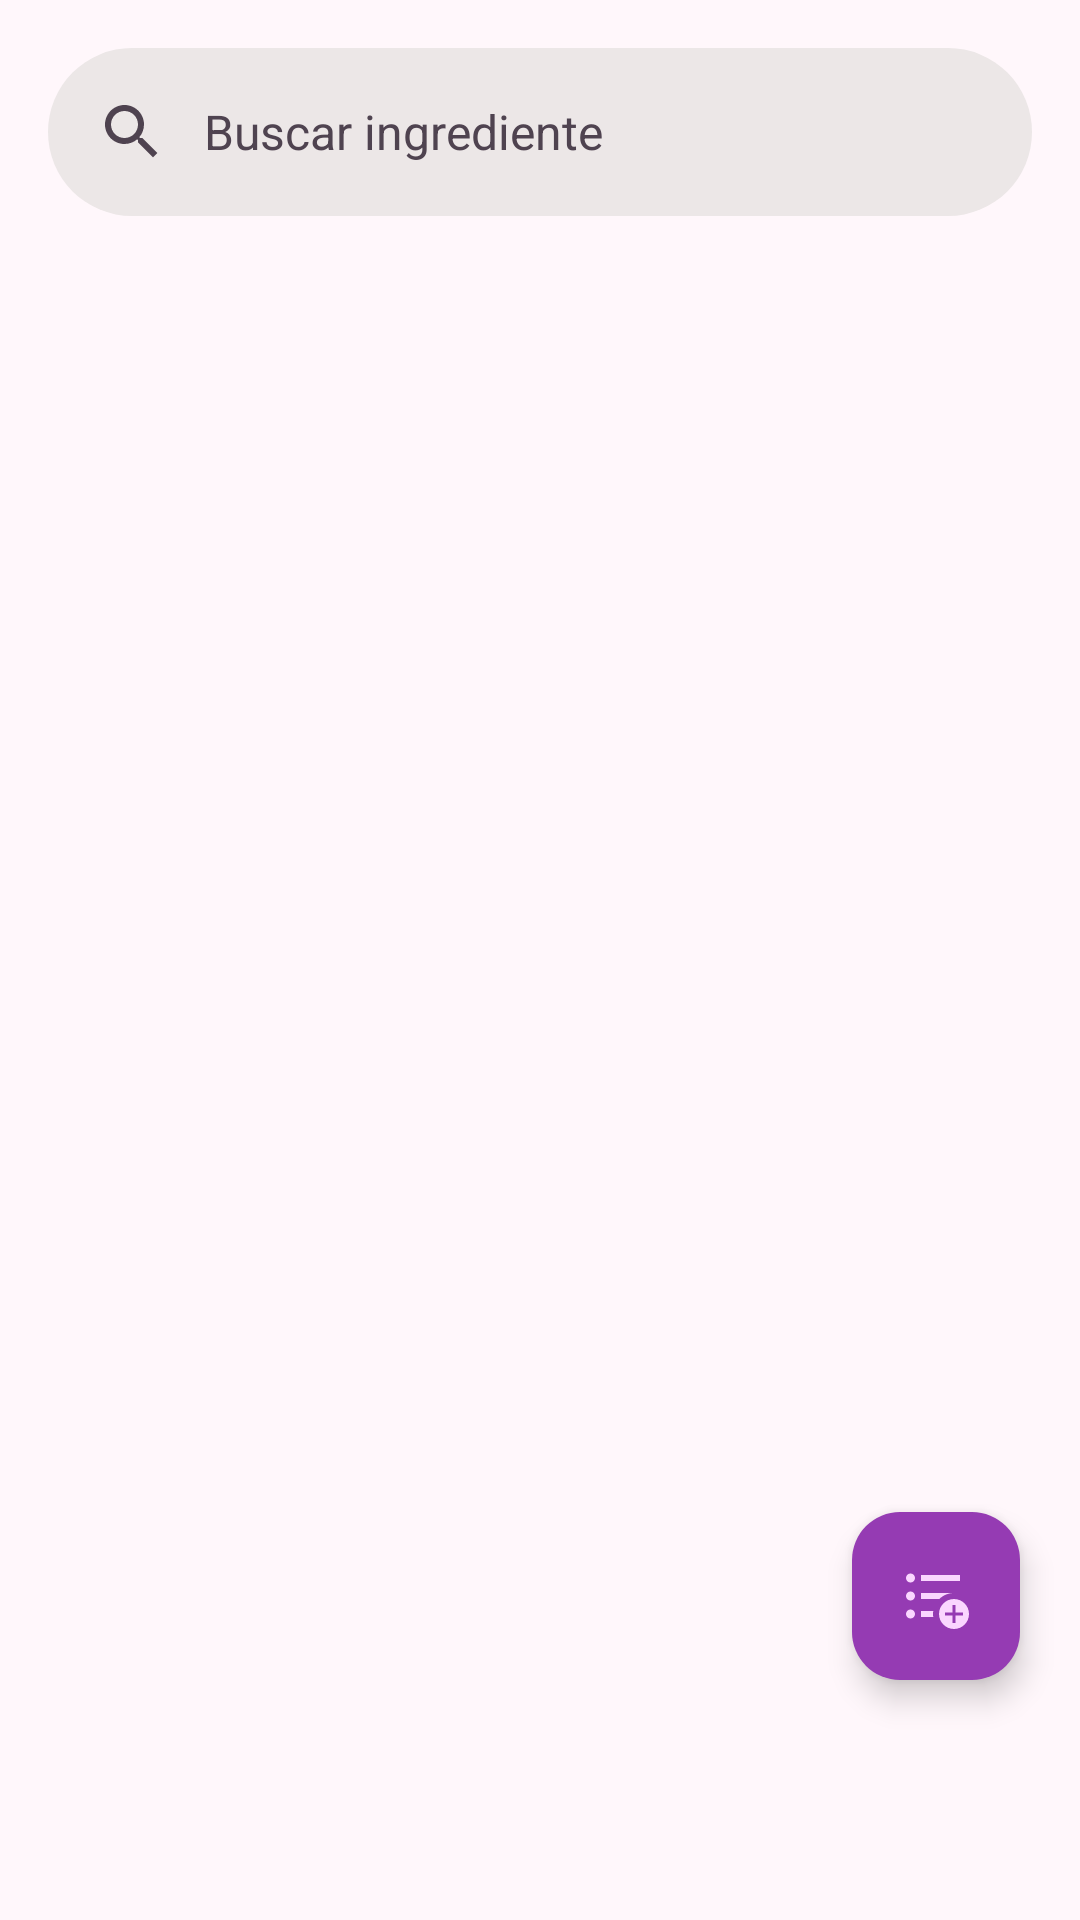

Icon bounding boxes for this 1080 × 1920 phone screenshot, format (x1, y1, x2, y2):
Agregar ingrediente: (852, 1512, 1020, 1680)
